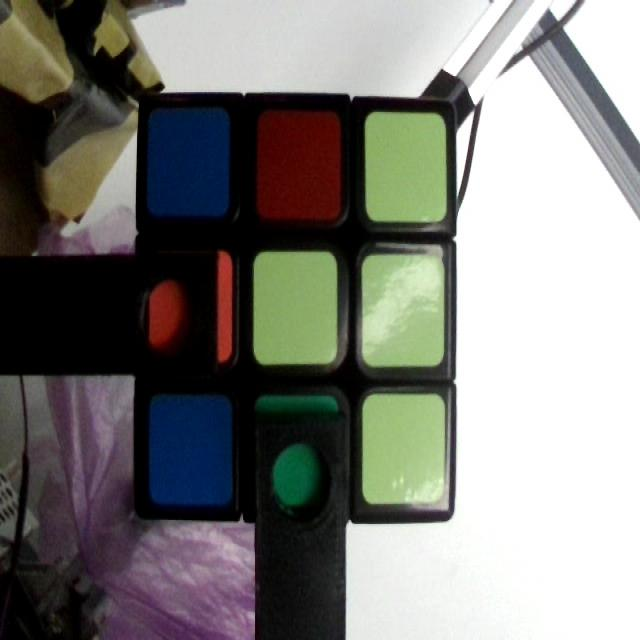b: (154, 105, 232, 215), (154, 400, 234, 499)
g: (253, 393, 342, 503)
o: (149, 248, 229, 359)
r: (262, 111, 342, 220)
y: (364, 392, 448, 503), (362, 255, 447, 364), (255, 253, 338, 359), (367, 112, 446, 219)
